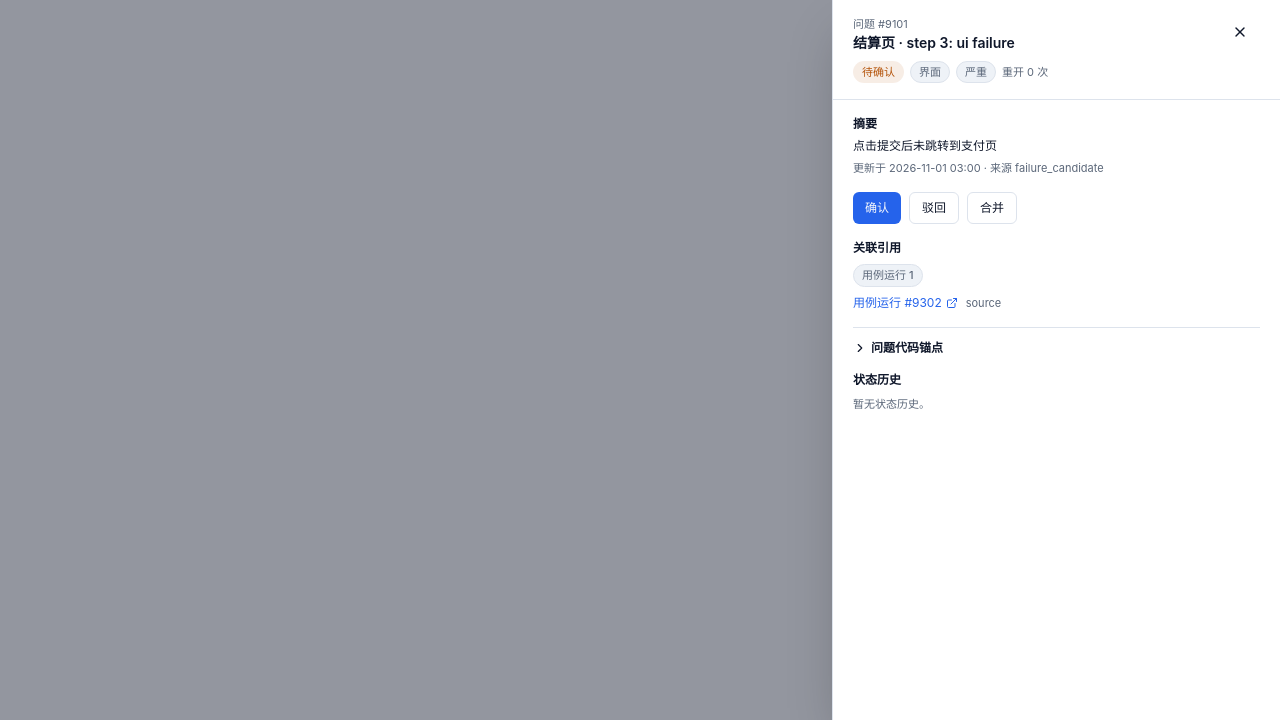
IssueDetailSheet code anchors › adds the issue anchor panel as a separate section from refs/evidence
Expected: the element with test id "issue-refs" is shown, [853, 240, 1001, 310]
Click the button with test id "anchor-panel-toggle".
click(907, 348)  # box [853, 340, 1260, 356]
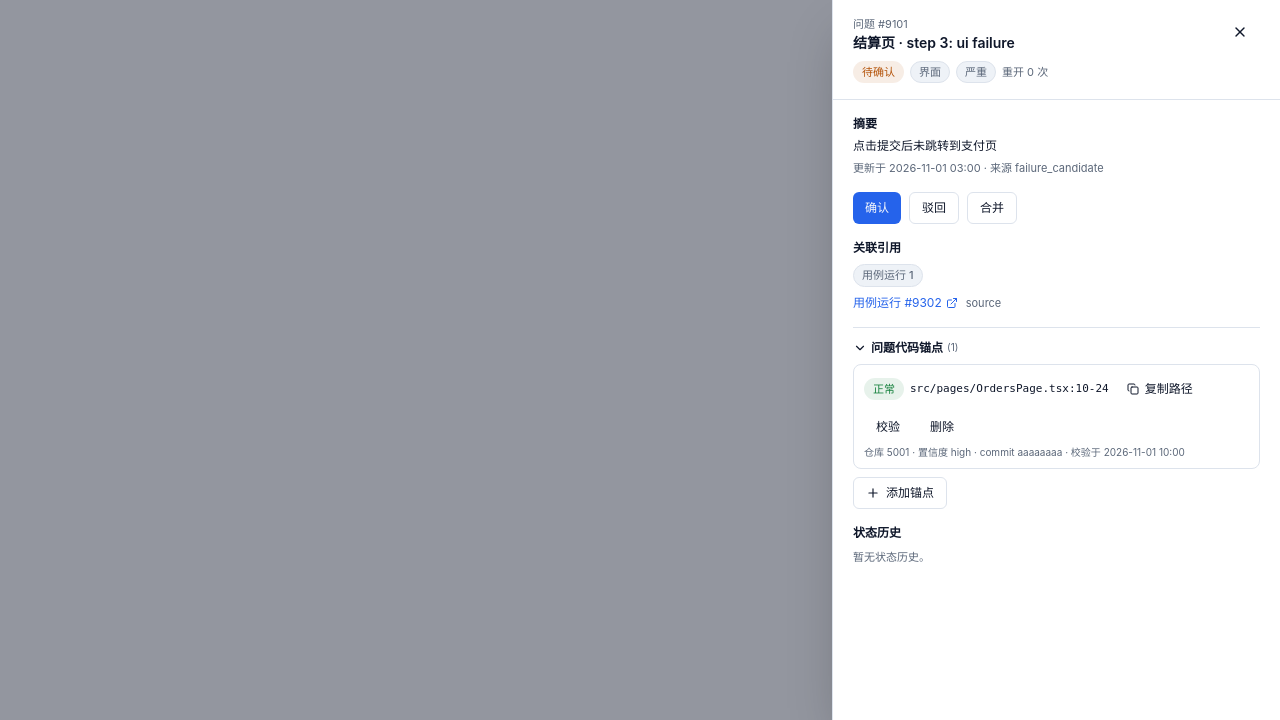
Expected: the text "src/pages/OrdersPage.tsx:10-24" is shown, [910, 381, 1109, 397]
